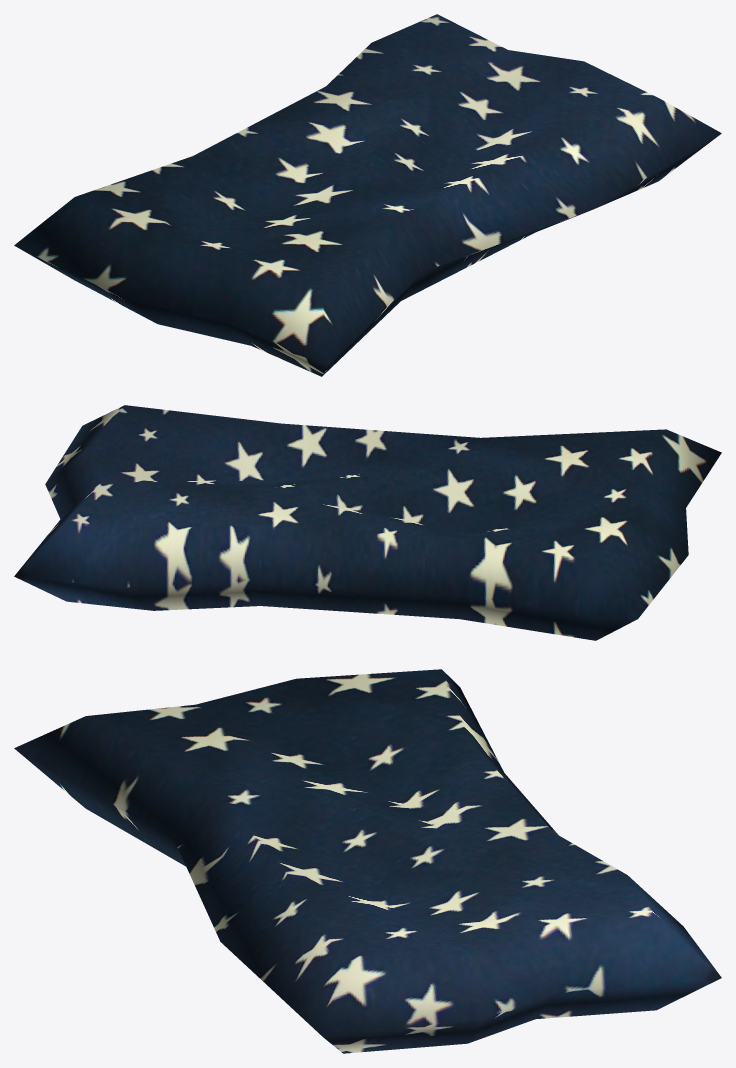
The model's file is M_Dogdianzi01.FBX.
3 renders of one model, top to bottom at view 1: azimuth 30°, elevation 25°; view 2: azimuth 150°, elevation 25°; view 3: azimuth 270°, elevation 25°, orthographic. The views are drawn at different scales.
Visible parts, largest first — view 1: M_Dogdianzi01; view 2: M_Dogdianzi01; view 3: M_Dogdianzi01.
Boxes of the visible parts, x1,y1,x2,y2 form: M_Dogdianzi01: (14, 14, 721, 376); M_Dogdianzi01: (14, 405, 721, 640); M_Dogdianzi01: (14, 669, 721, 1053).
Bounding box in the file's own units: 1.94 × 0.2397 × 1.66.
